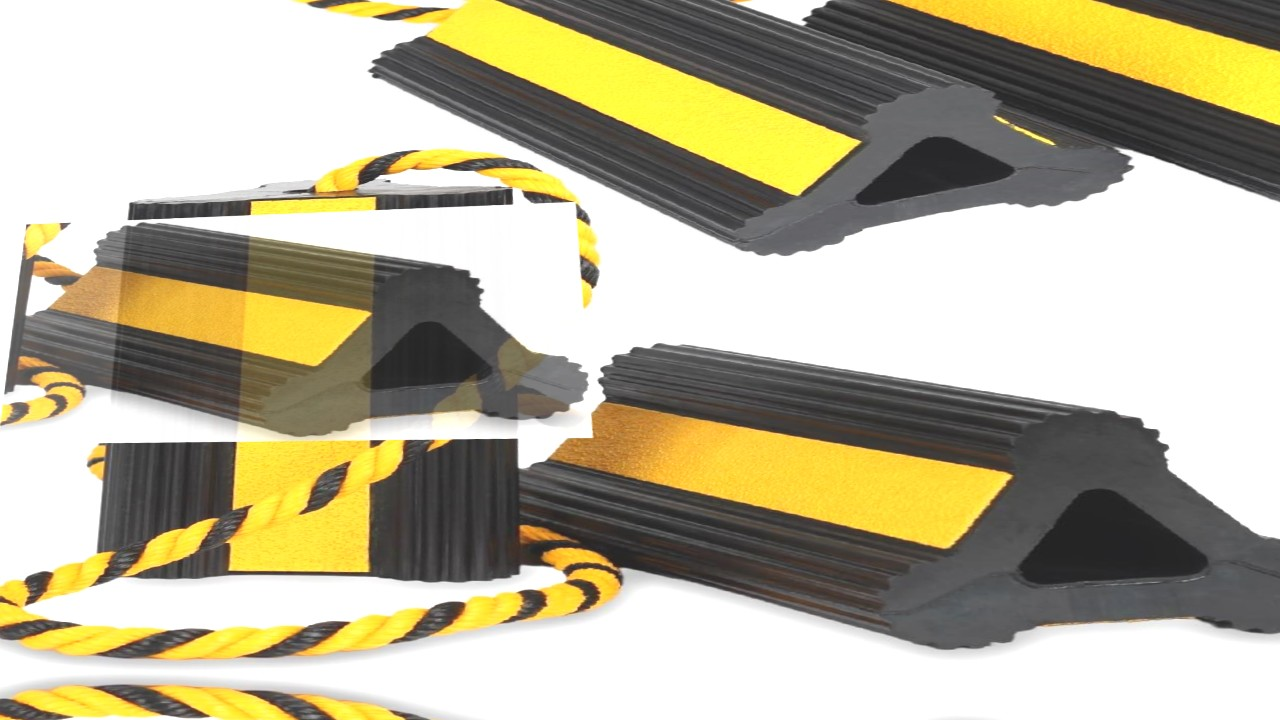chock: (471, 310, 1280, 666), (336, 0, 1200, 289), (70, 162, 583, 590), (0, 191, 618, 456), (749, 0, 1280, 258)
